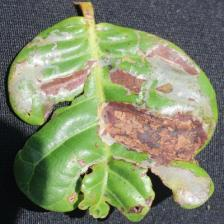leaf miner: (7, 0, 218, 222)
